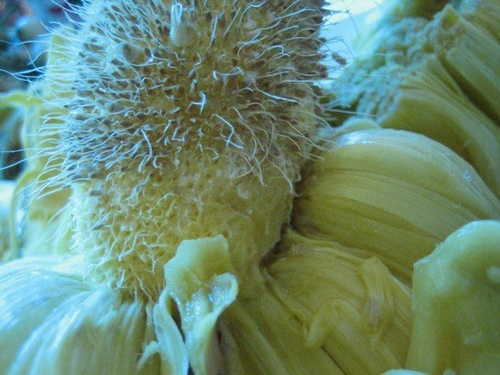jackfruit: (1, 0, 499, 373)
